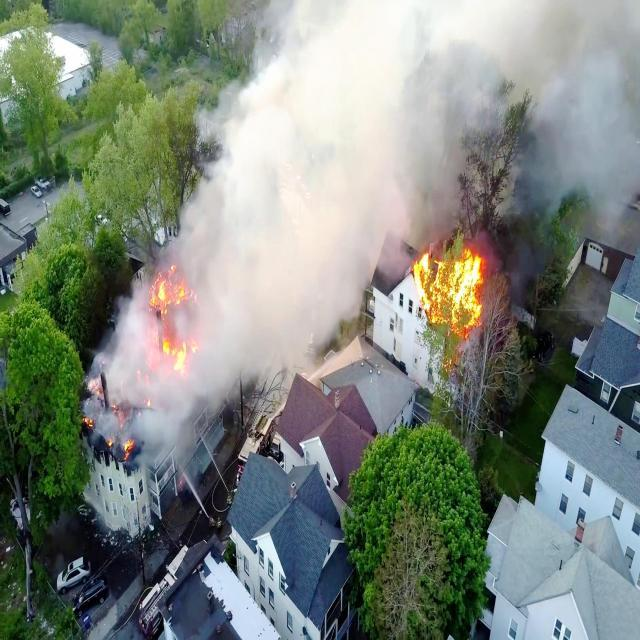Fire: (416, 248, 486, 340), (82, 390, 140, 468), (146, 324, 194, 382), (150, 262, 190, 308)
Smoke: (252, 0, 640, 229), (190, 78, 266, 408), (267, 232, 382, 378), (80, 295, 150, 384), (142, 390, 187, 462)
